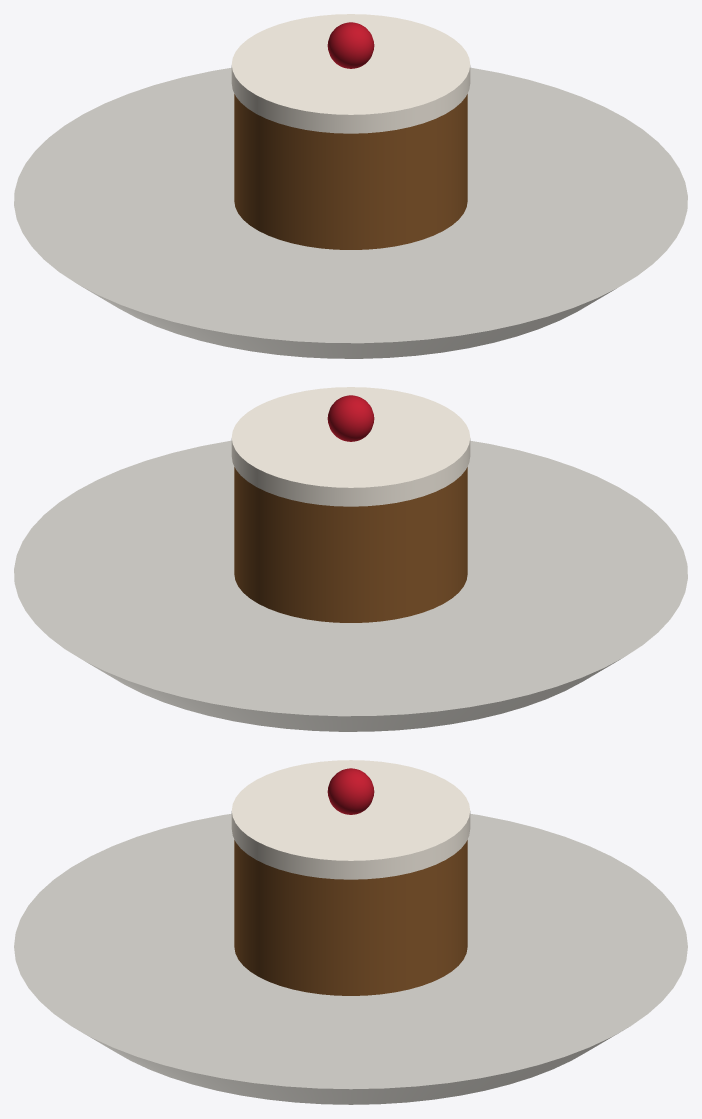
Rendered from test-plate.glb.
3 views of the same model, one above another, from view 1: azimuth 30°, elevation 25°; view 2: azimuth 150°, elevation 25°; view 3: azimuth 270°, elevation 25° (orthographic).
Visible parts, largest first — view 1: Plate, Cake, Cream, Berry; view 2: Plate, Cake, Cream, Berry; view 3: Plate, Cake, Cream, Berry.
Part boxes in pixels (<box>): Plate: <box>14,67,687,358</box>; Cake: <box>234,94,467,249</box>; Cream: <box>231,14,470,133</box>; Berry: <box>327,22,374,68</box>; Plate: <box>14,440,687,731</box>; Cake: <box>234,467,467,622</box>; Cream: <box>231,387,470,506</box>; Berry: <box>327,395,374,441</box>; Plate: <box>14,813,687,1104</box>; Cake: <box>234,840,467,995</box>; Cream: <box>231,760,470,879</box>; Berry: <box>327,768,374,814</box>.
Bounding box in the file's own units: 0.26 × 0.091 × 0.26.
